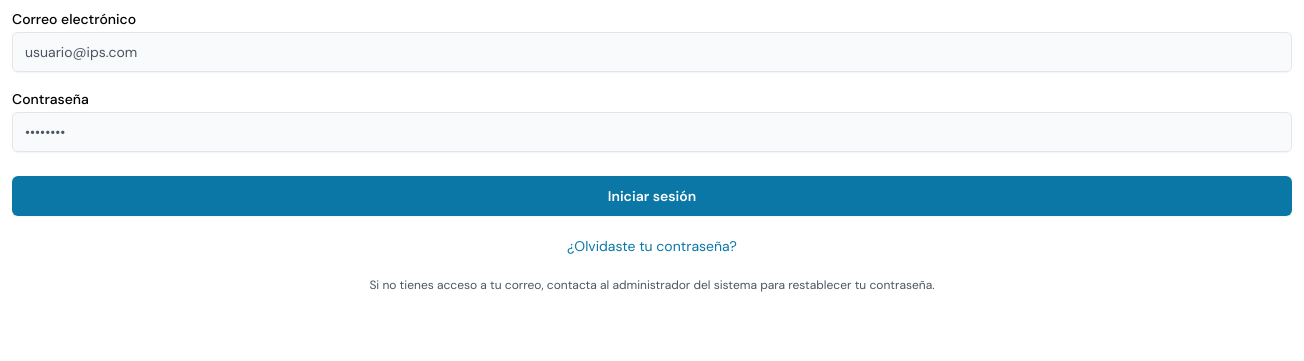
LoginForm › shows validation error when submitting with empty email
The width and height of the screenshot is (1304, 361).
Click the button "Iniciar sesión" at (652, 196), box x1=12 y1=176 x2=1292 y2=216
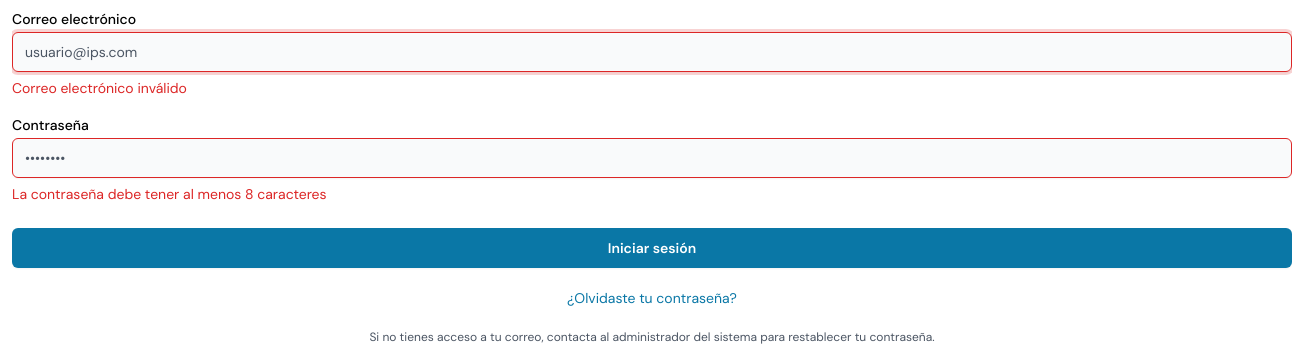
Check: the text "Correo electrónico inválido" is shown, box x1=12 y1=79 x2=187 y2=97
